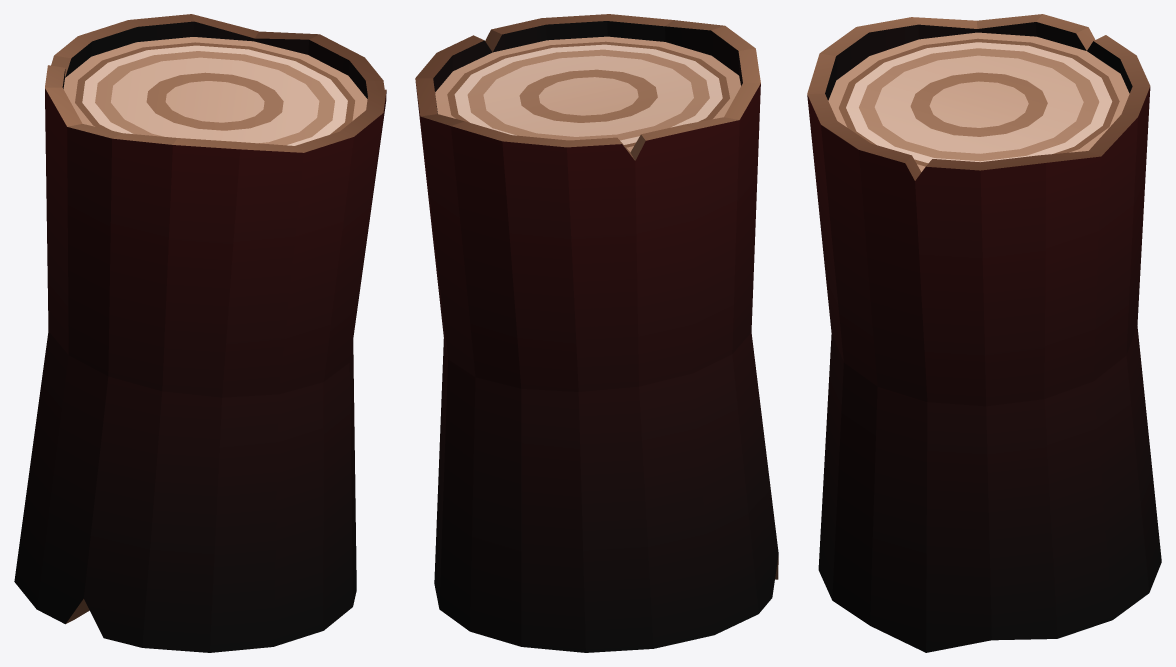
Rendered from TreeLog-1.glb.
The picture shows the model from 3 angles, left to right: view 1: azimuth 30°, elevation 25°; view 2: azimuth 150°, elevation 25°; view 3: azimuth 270°, elevation 25°; orthographic projection.
Visible parts, largest first — view 1: TreeLog-1; view 2: TreeLog-1; view 3: TreeLog-1.
Part boxes in pixels (x1=…): TreeLog-1: x1=14, y1=14, x2=386, y2=652; TreeLog-1: x1=415, y1=14, x2=778, y2=652; TreeLog-1: x1=807, y1=14, x2=1161, y2=652.
Bounding box in the file's own units: 0.4304 × 0.6654 × 0.4113.
Materials: 1 (1 with a texture image).
